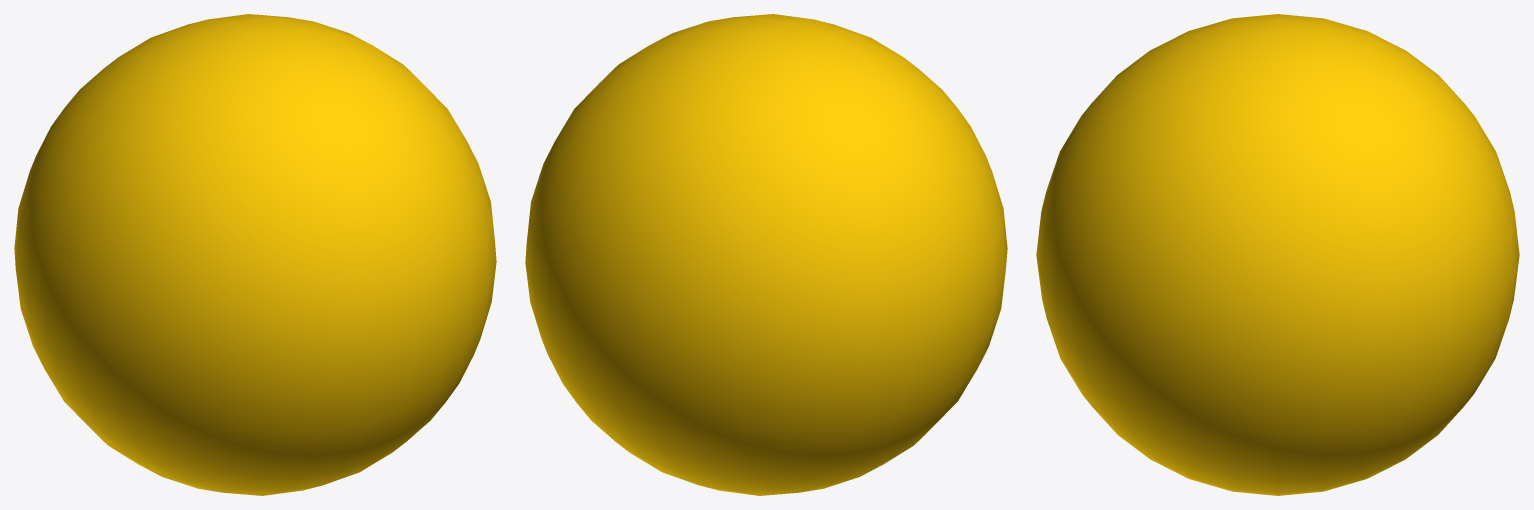
Rendered from Ball.fbx.
The picture shows the model from 3 angles, left to right: view 1: azimuth 30°, elevation 25°; view 2: azimuth 150°, elevation 25°; view 3: azimuth 270°, elevation 25°; orthographic projection.
Parts seen in each view (by area): view 1: Ball; view 2: Ball; view 3: Ball.
Boxes of the visible parts, left/top/right/bottom form: Ball: left=14, top=14, right=496, bottom=495; Ball: left=525, top=14, right=1007, bottom=495; Ball: left=1036, top=14, right=1519, bottom=495.
Size of the model in its own units: 54.62 by 54.62 by 54.62.
